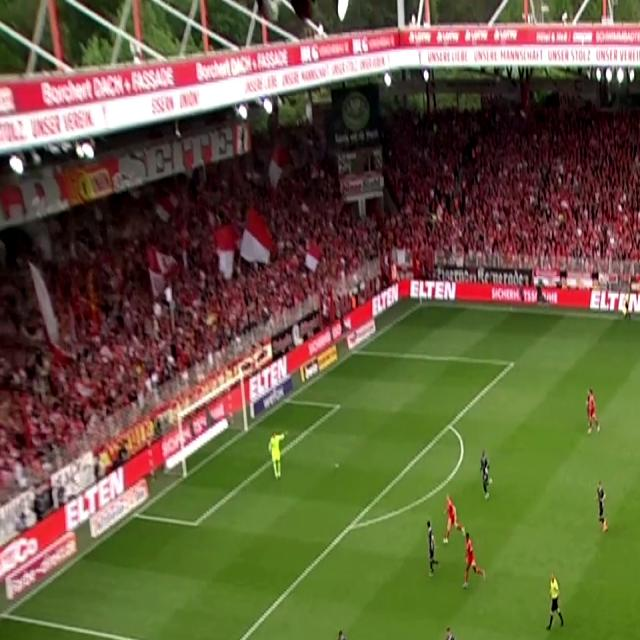goalkeeper: (267, 428, 291, 487)
referee: (544, 569, 573, 635)
soccer-player: (457, 527, 486, 594), (578, 386, 605, 444), (421, 519, 442, 586), (589, 478, 612, 536), (477, 445, 499, 503), (440, 492, 463, 547), (332, 622, 364, 640), (436, 623, 463, 640)
